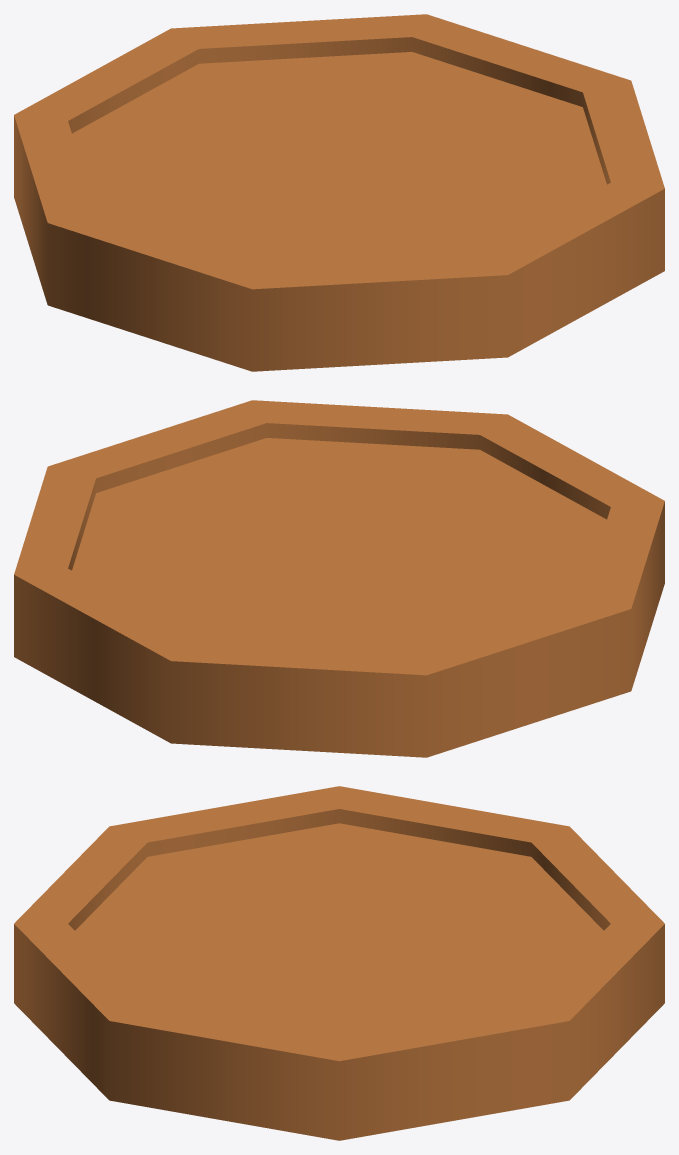
Rendered from Coin_01_Gold.fbx.
3 renders of one model, top to bottom at view 1: azimuth 30°, elevation 25°; view 2: azimuth 150°, elevation 25°; view 3: azimuth 270°, elevation 25°, orthographic. The views are drawn at different scales.
Parts seen in each view (by area): view 1: Coin_01_Gold; view 2: Coin_01_Gold; view 3: Coin_01_Gold.
Boxes of the visible parts, x1,y1,x2,y2 form: Coin_01_Gold: [14, 14, 664, 371]; Coin_01_Gold: [14, 400, 664, 757]; Coin_01_Gold: [14, 786, 664, 1140].
Size of the model in its own units: 0.0345 by 0.00466 by 0.0345.
